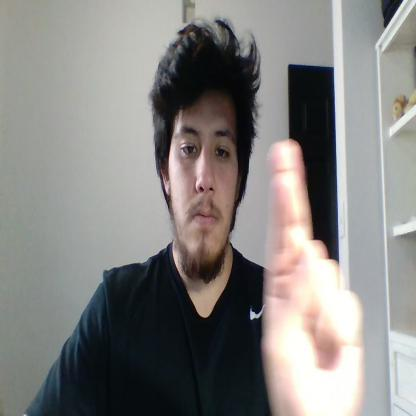R: (262, 140, 364, 413)
